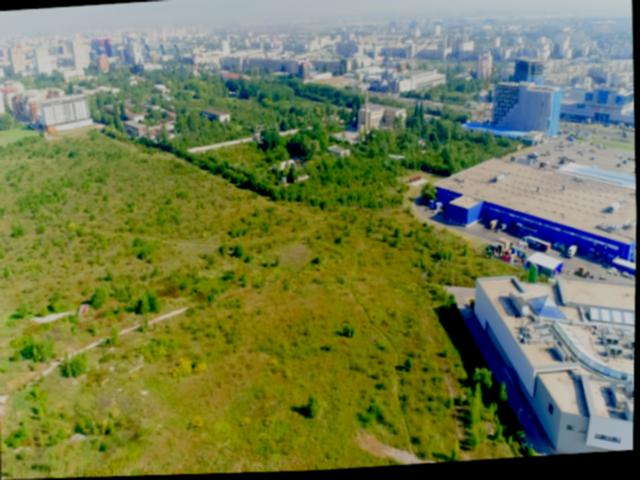plane: (388, 153, 405, 166)
